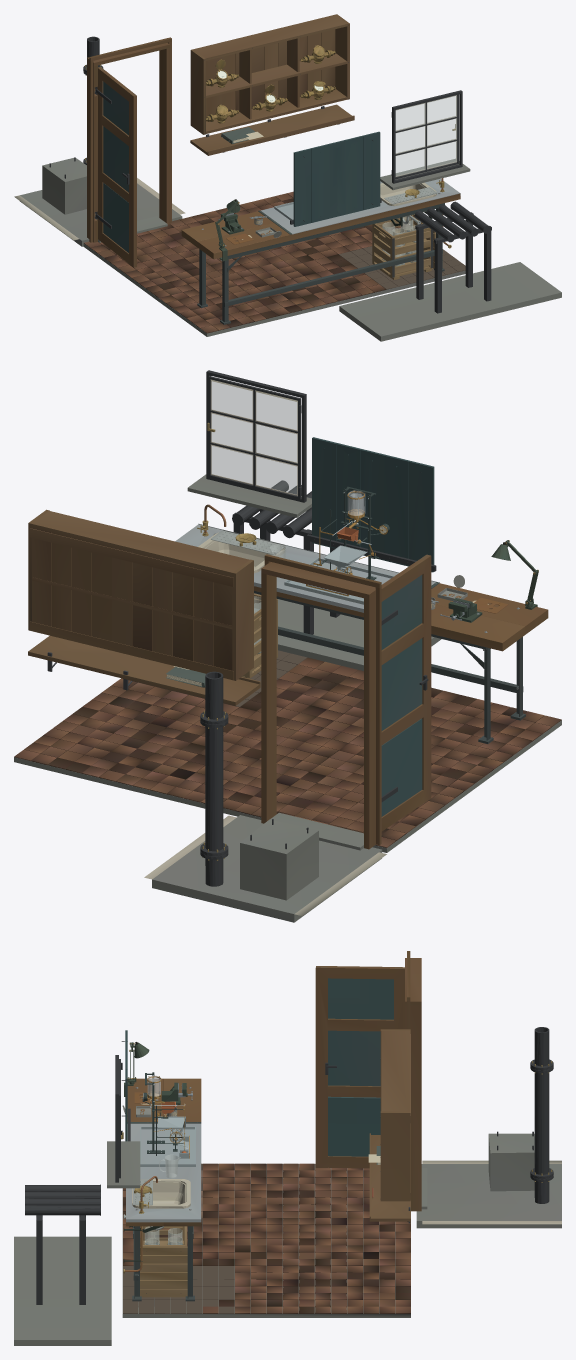
Rendered from mini.glb.
3 views of the same model, one above another, from view 1: azimuth 30°, elevation 25°; view 2: azimuth 150°, elevation 25°; view 3: azimuth 270°, elevation 25° (orthographic). The views are drawn at different scales.
Parts seen in each view (by area): view 1: Maker name, part/env_back_wall/mounting_board, part/env_back_wall/glass_panes, part/env_wet_zone/basin, part/env_crate/spare_glass_cylinders; view 2: Maker name, part/env_back_wall/mounting_board, part/env_back_wall/glass_panes, part/env_wet_zone/basin; view 3: Maker name, part/env_back_wall/mounting_board, part/env_wet_zone/basin.
Boxes of the visible parts, left/top/right/bottom form: Maker name: left=14, top=25, right=561, bottom=341; part/env_back_wall/mounting_board: left=181, top=14, right=460, bottom=279; part/env_back_wall/glass_panes: left=396, top=95, right=456, bottom=176; part/env_wet_zone/basin: left=380, top=182, right=436, bottom=218; part/env_crate/spare_glass_cylinders: left=382, top=216, right=416, bottom=266; Maker name: left=14, top=370, right=561, bottom=922; part/env_back_wall/mounting_board: left=28, top=437, right=548, bottom=705; part/env_back_wall/glass_panes: left=212, top=381, right=296, bottom=494; part/env_wet_zone/basin: left=198, top=532, right=284, bottom=573; Maker name: left=14, top=951, right=561, bottom=1345; part/env_back_wall/mounting_board: left=122, top=1029, right=410, bottom=1297; part/env_wet_zone/basin: left=132, top=1179, right=190, bottom=1208.
Size of the model in its own units: 3.81 by 2.21 by 4.94.
10 materials, 10 textured.
